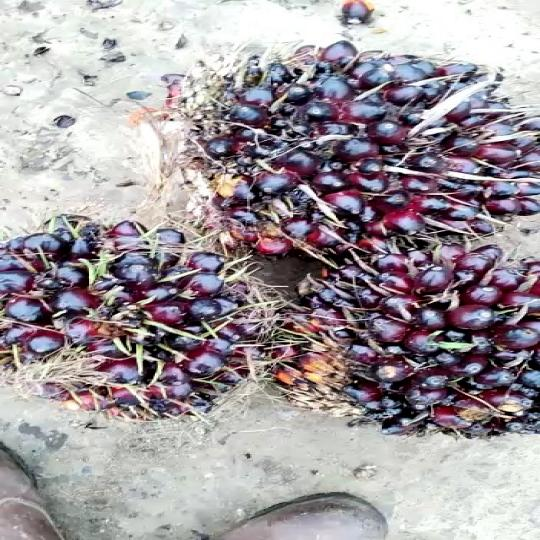mentah: (185, 36, 540, 258), (0, 198, 259, 427), (264, 245, 540, 437)
